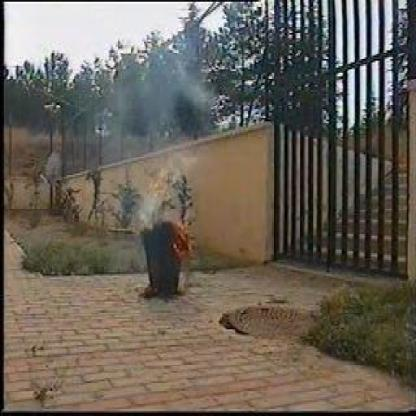-: (120, 86, 196, 178)
foggia-v2-map80-epoch100 - v1 4323: (172, 217, 195, 254)
